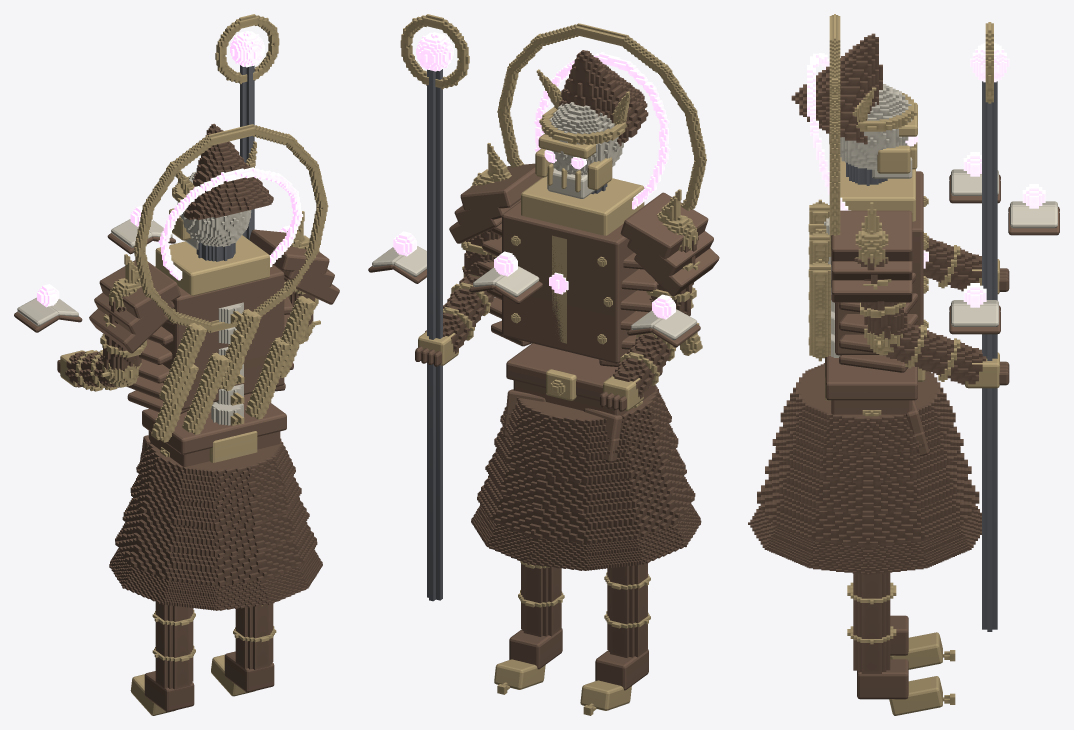
File: enemy_03_reliquary_hexweaver.glb
The picture shows the model from 3 angles, left to right: view 1: azimuth 30°, elevation 25°; view 2: azimuth 150°, elevation 25°; view 3: azimuth 270°, elevation 25°; orthographic projection. The views are drawn at different scales.
Visible parts, largest first — view 1: Pelvis, Torso, SecondaryProp, Head, ShinL, ForearmR, ShinR, ForearmL, UpperArmL; view 2: Pelvis, Torso, ForearmR, SecondaryProp, Head, ShinL, ShinR, ForearmL, UpperArmL, UpperArmR; view 3: Pelvis, Torso, ForearmR, Head, SecondaryProp, ShinR, UpperArmR, ForearmL, ShinL.
Boxes of the visible parts, <box> form: Pelvis: <box>109,393,322,610</box>; Torso: <box>89,211,339,442</box>; SecondaryProp: <box>14,124,328,332</box>; Head: <box>169,123,273,261</box>; ShinL: <box>130,602,195,715</box>; ForearmR: <box>215,14,320,344</box>; ShinR: <box>211,603,276,696</box>; ForearmL: <box>57,350,141,391</box>; UpperArmL: <box>100,278,146,371</box>; Pelvis: <box>471,343,701,570</box>; Torso: <box>449,143,719,366</box>; ForearmR: <box>400,14,494,601</box>; SecondaryProp: <box>368,23,706,346</box>; Head: <box>535,50,648,198</box>; ShinL: <box>580,563,650,715</box>; ShinR: <box>494,561,564,694</box>; ForearmL: <box>600,323,699,411</box>; UpperArmL: <box>646,215,700,315</box>; UpperArmR: <box>461,169,501,276</box>; Pelvis: <box>748,355,981,575</box>; Torso: <box>808,157,928,372</box>; ForearmR: <box>864,22,1009,631</box>; Head: <box>791,33,918,185</box>; SecondaryProp: <box>807,14,1059,334</box>; ShinR: <box>847,572,955,715</box>; UpperArmR: <box>854,229,907,339</box>; ForearmL: <box>923,232,1009,294</box>; ShinL: <box>847,582,955,669</box>.
Size of the model in its own units: 1 by 2.12 by 0.8458.
